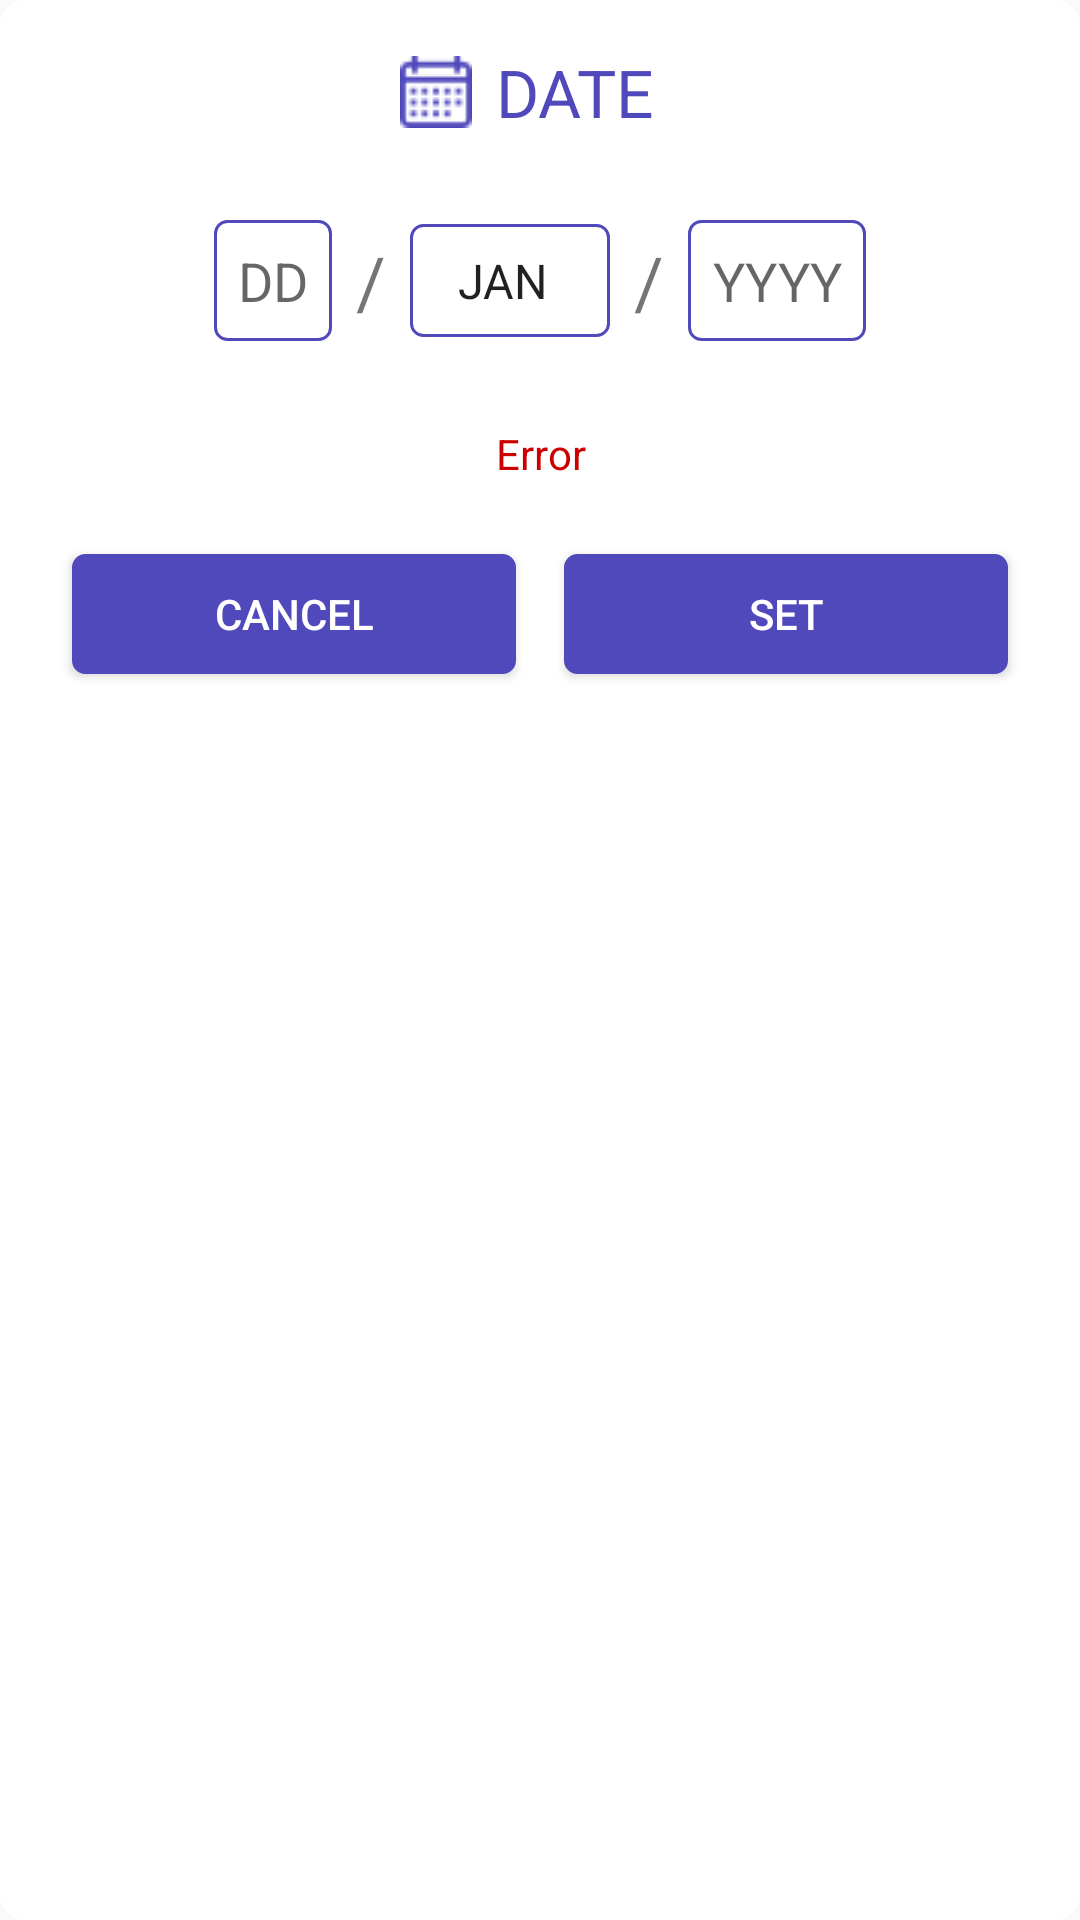

Locate icon controls on the screen. Image size 1080 × 1920, boxes as (x1, y1, x2, y2).
calendar: (400, 56, 472, 128)
